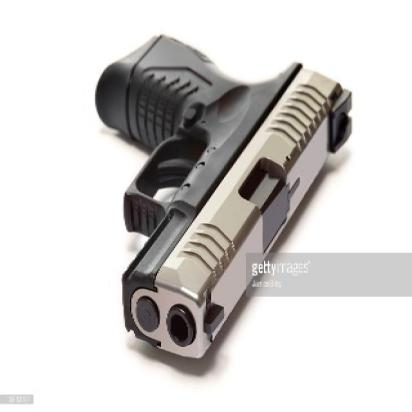Gun: (83, 22, 352, 362)
